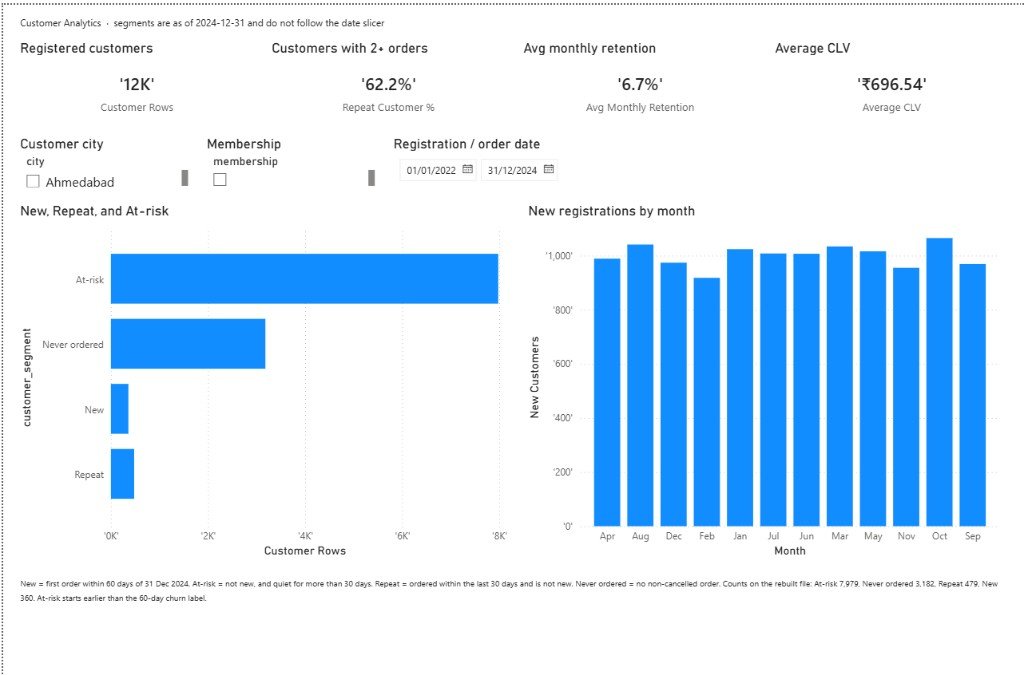

What the dashboard file says about the page in this screenshot:
{"tool":"powerbi","page":{"name":"Customer Analytics","canvas":[1280,840],"ordinal":1},"visuals":[{"type":"textbox","box":[16,8,1000,32],"z":0},{"type":"card","title":"Registered customers","fields":{"Values":["_Measures.Customer Rows"]},"box":[16,44,303,112],"z":1},{"type":"card","title":"Customers with 2+ orders","fields":{"Values":["_Measures.Repeat Customer %"]},"box":[331,44,303,112],"z":1},{"type":"card","title":"Avg monthly retention","fields":{"Values":["_Measures.Avg Monthly Retention"]},"box":[646,44,303,112],"z":1},{"type":"card","title":"Average CLV","fields":{"Values":["_Measures.Average CLV"]},"box":[961,44,303,112],"z":1},{"type":"slicer","title":"Customer city","fields":{"Values":["dim_customers.city"]},"box":[16,164,220,70],"z":2},{"type":"slicer","title":"Membership","fields":{"Values":["dim_customers.membership"]},"box":[250,164,220,70],"z":2},{"type":"slicer","title":"Registration / order date","fields":{"Values":["dim_date.date"]},"box":[484,164,280,70],"z":2},{"type":"clusteredBarChart","title":"New, Repeat, and At-risk","fields":{"Category":["dim_customers.customer_segment"],"Y":["_Measures.Customer Rows"]},"box":[16,248,620,450],"z":3},{"type":"clusteredColumnChart","title":"New registrations by month","fields":{"Category":["dim_date.Month"],"Y":["_Measures.New Customers"]},"box":[652,248,600,450],"z":3},{"type":"textbox","box":[16,710,1240,110],"z":4}]}

Visuals, with their boxes in screenshot pixels (x1, y1, x2, y2), scaled from the page's 1280x840 canvas onto the 1024x675 screenshot:
textbox: 13 6 813 32
"Registered customers" card: 13 35 255 125
"Customers with 2+ orders" card: 265 35 507 125
"Avg monthly retention" card: 517 35 759 125
"Average CLV" card: 769 35 1011 125
"Customer city" slicer: 13 132 189 188
"Membership" slicer: 200 132 376 188
"Registration / order date" slicer: 387 132 611 188
"New, Repeat, and At-risk" clusteredBarChart: 13 199 509 561
"New registrations by month" clusteredColumnChart: 522 199 1002 561
textbox: 13 571 1005 659
